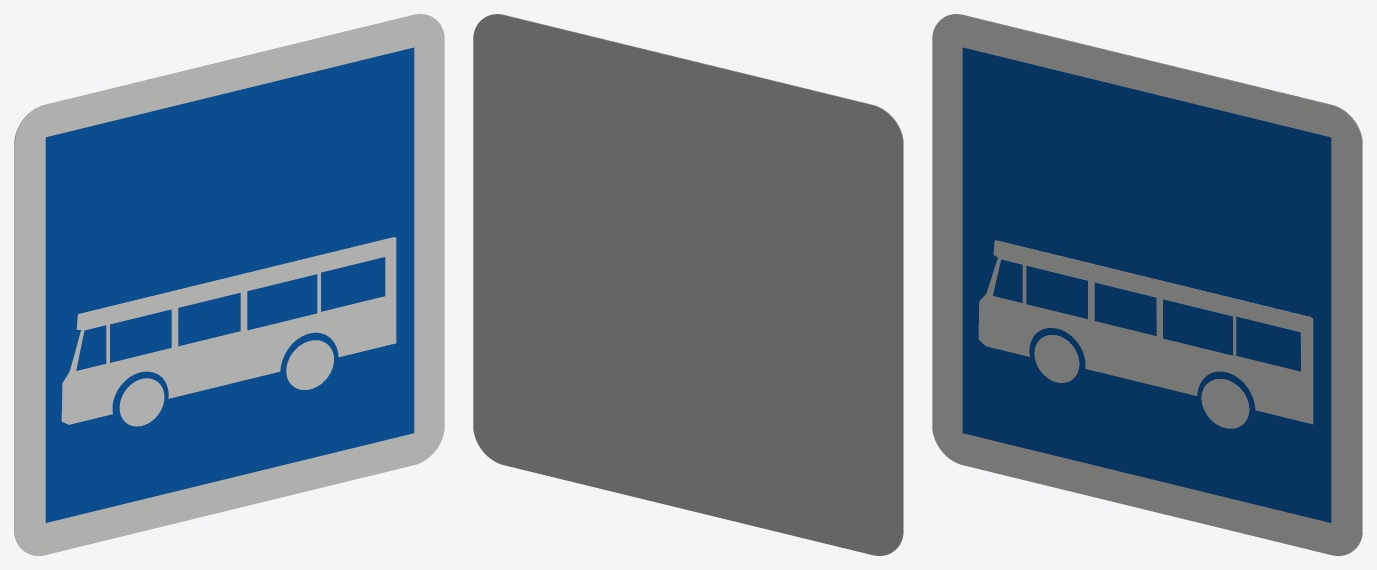
3 views of the same model, side by side, from view 1: azimuth 30°, elevation 25°; view 2: azimuth 150°, elevation 25°; view 3: azimuth 330°, elevation 25° (orthographic).
Parts seen in each view (by area): view 1: C6_p01, C6_p00, C6_p02, C6_p06, C6_p07, C6_p05, C6_p04, C6_p08, C6_p09, C6_p03, C6_dos; view 2: C6_dos, C6_p00; view 3: C6_p01, C6_p00, C6_p02, C6_p06, C6_p07, C6_p05, C6_p04, C6_p08, C6_p09, C6_p03, C6_dos.
Boxes of the visible parts, x1,y1,x2,y2 form: C6_p01: (45, 47, 414, 522); C6_p00: (14, 14, 444, 555); C6_p02: (61, 237, 396, 424); C6_p06: (247, 274, 317, 330); C6_p07: (321, 257, 385, 311); C6_p05: (178, 292, 240, 346); C6_p04: (110, 309, 171, 362); C6_p08: (286, 340, 333, 389); C6_p09: (119, 378, 164, 426); C6_p03: (76, 325, 106, 370); C6_dos: (14, 14, 431, 547); C6_dos: (473, 14, 903, 555); C6_p00: (486, 14, 903, 547); C6_p01: (962, 47, 1331, 522); C6_p00: (932, 14, 1362, 555); C6_p02: (978, 240, 1313, 424); C6_p06: (1163, 299, 1232, 355); C6_p07: (1236, 316, 1300, 371); C6_p05: (1094, 282, 1156, 335); C6_p04: (1026, 266, 1087, 318); C6_p08: (1201, 379, 1249, 428); C6_p09: (1034, 335, 1079, 382); C6_p03: (993, 259, 1022, 302); C6_dos: (945, 14, 1362, 547).
Bounding box in the file's own units: 0.7 × 0.6999 × 0.0059.
